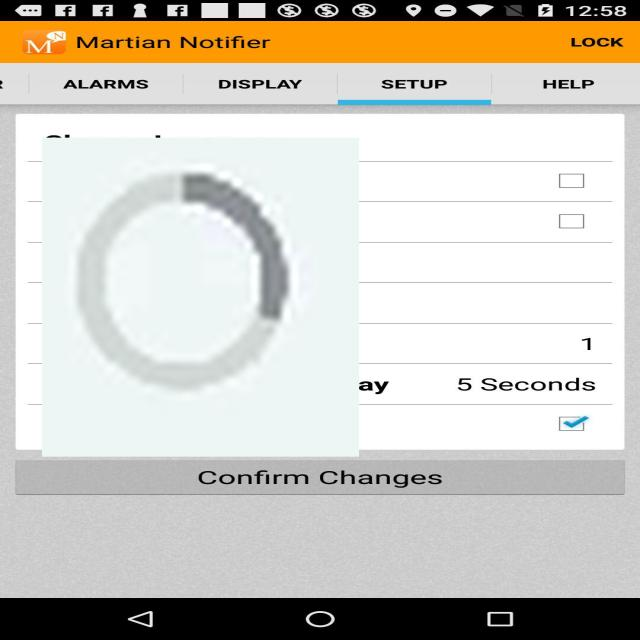misdirection: (42, 138, 359, 456)
